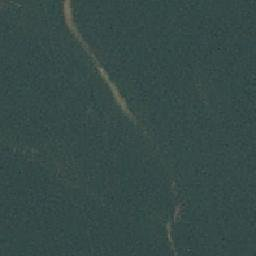debris: (166, 199, 181, 245), (63, 3, 81, 34), (118, 89, 132, 122), (101, 70, 115, 96)
